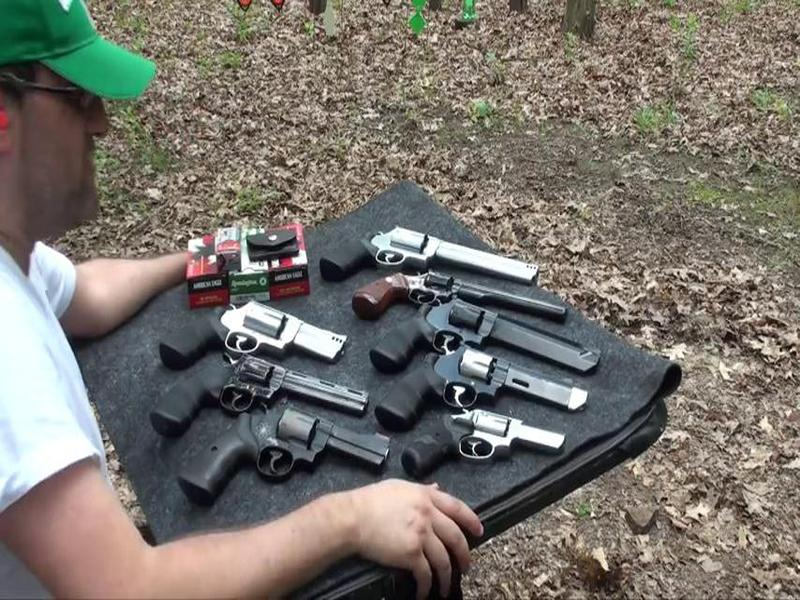Revolver: (365, 302, 604, 381)
